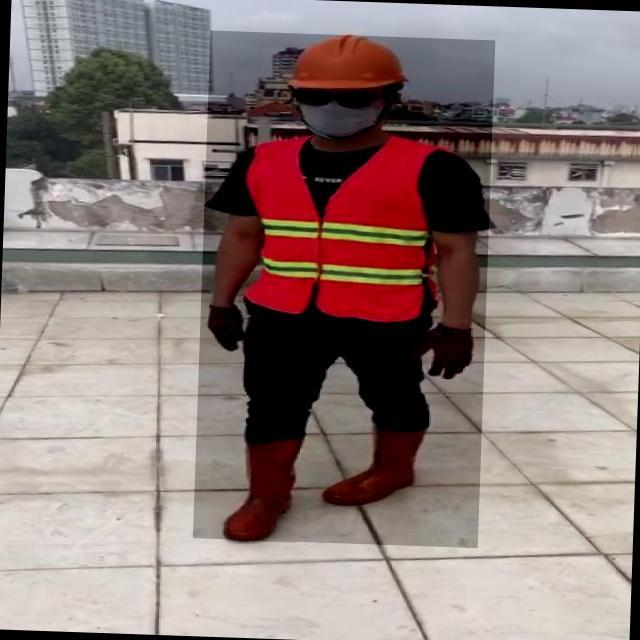Helmet: (282, 33, 410, 92)
Human: (192, 30, 495, 548)
Safety Boot: (322, 425, 425, 509), (225, 438, 300, 542)
Safety Vest: (242, 134, 431, 322)
